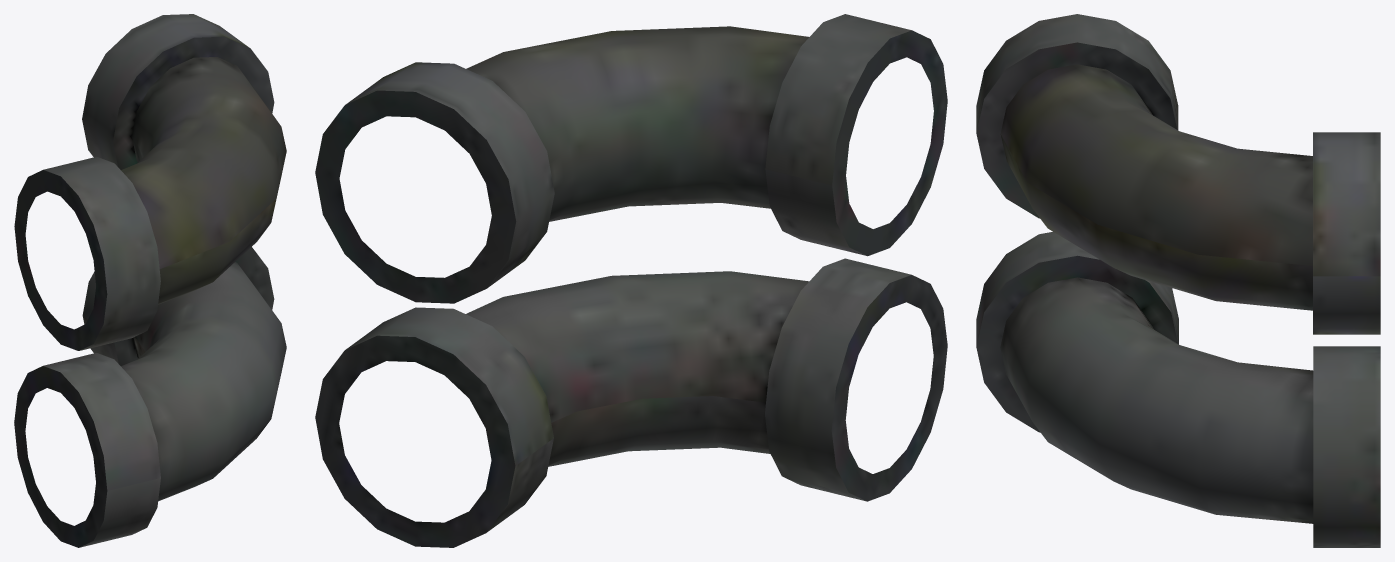
3 renders of one model, left to right at view 1: azimuth 30°, elevation 25°; view 2: azimuth 150°, elevation 25°; view 3: azimuth 270°, elevation 25°, orthographic. The views are drawn at different scales.
Parts seen in each view (by area): view 1: body0_model0_lod0_mesh0; view 2: body0_model0_lod0_mesh0; view 3: body0_model0_lod0_mesh0.
Part boxes in pixels (left/top/right/bottom): body0_model0_lod0_mesh0: left=14, top=14, right=286, bottom=547; body0_model0_lod0_mesh0: left=315, top=14, right=947, bottom=547; body0_model0_lod0_mesh0: left=976, top=14, right=1380, bottom=547.
Bounding box in the file's own units: 12 × 13.01 × 12.
1 material, 1 textured.
